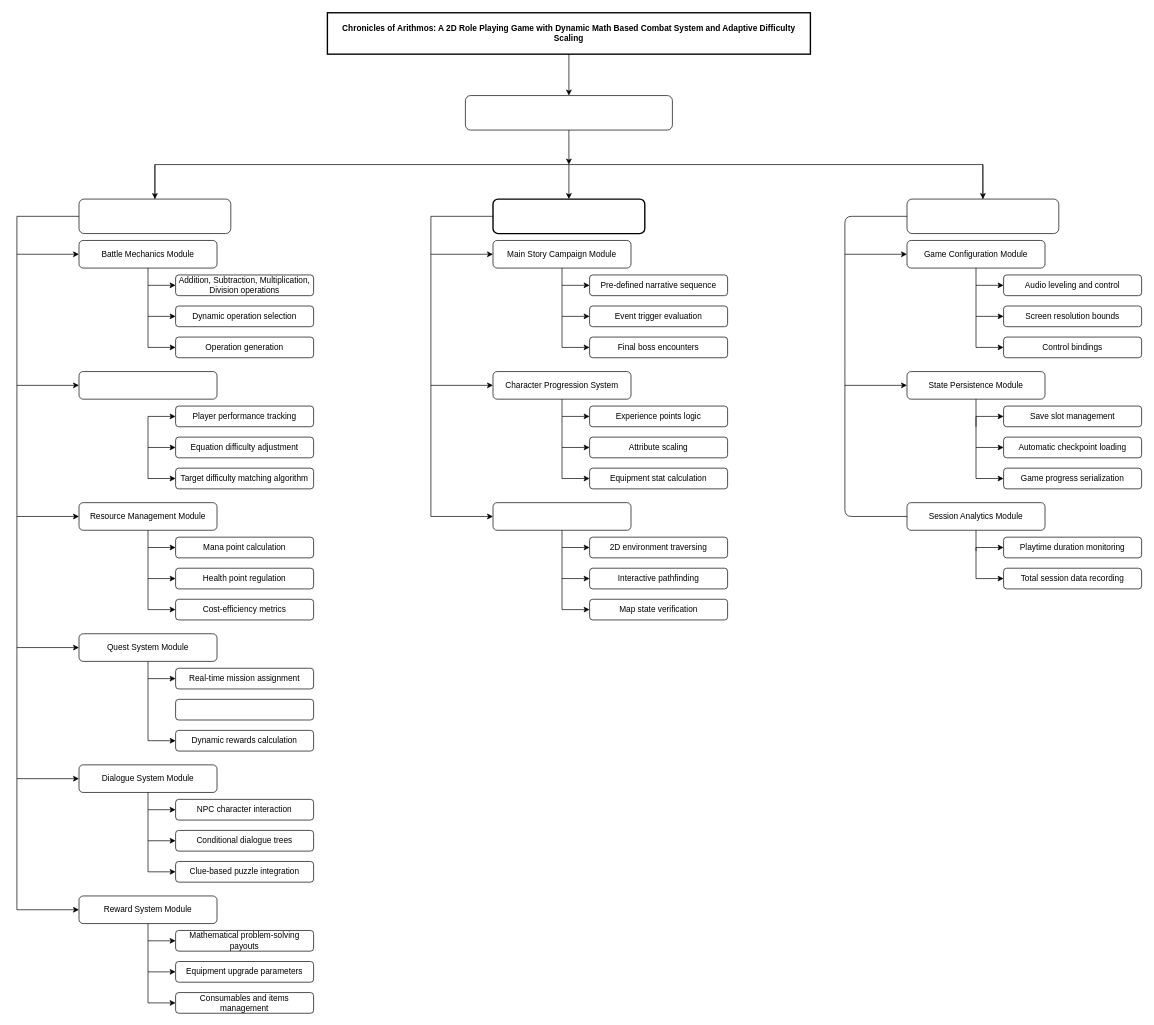
This 1154x1025 diagram has some shape labels left out. The centre of each missing label's shape, as x and y in pixels:
Adaptive Difficulty Scaling Module: (x=147, y=385)
Core Gameplay Loop: (x=154, y=216)
Exploration and Navigation Module: (x=561, y=516)
Game Application: (x=568, y=112)
Game System Support: (x=982, y=216)
Progress state management: (x=244, y=709)
System Interactions: (x=568, y=216)
